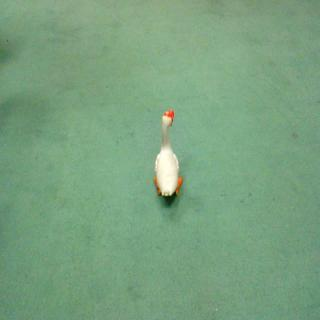duck: (139, 109, 193, 208)
